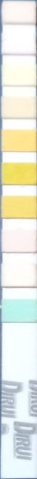color 1: (4, 5, 34, 20)
color 10: (3, 302, 37, 320)
color 2: (3, 36, 34, 52)
color 3: (3, 67, 35, 83)
color 4: (3, 100, 35, 115)
color 5: (3, 132, 35, 150)
color 6: (3, 165, 37, 183)
color 7: (3, 199, 35, 215)
color 8: (3, 234, 37, 250)
color 9: (2, 266, 37, 285)
